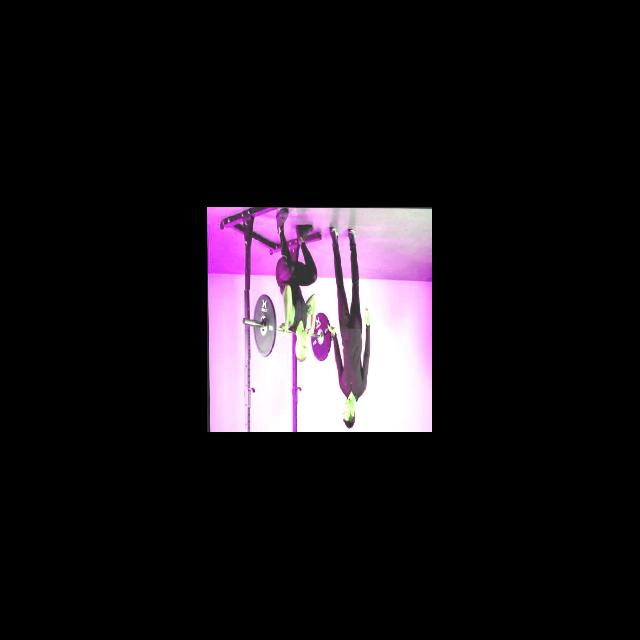barbell: (241, 289, 278, 359)
